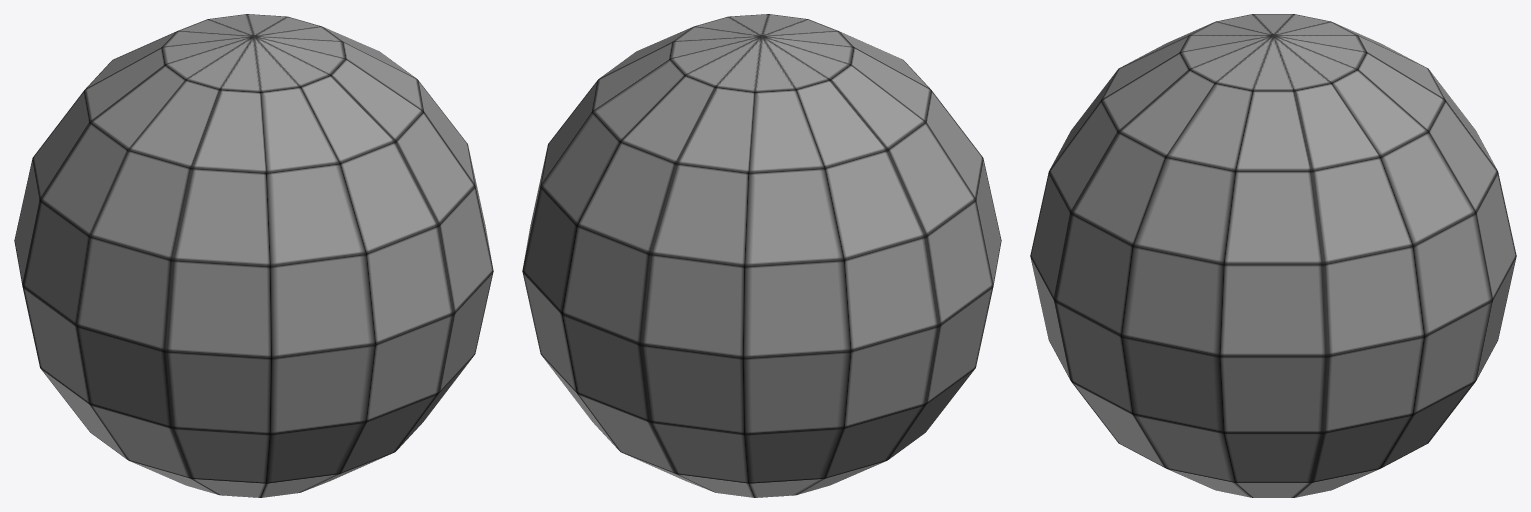
The model's file is MOdelosdeassets.fbx_SphereBlenderPoliceAtack.fbx.
3 renders of one model, left to right at view 1: azimuth 30°, elevation 25°; view 2: azimuth 150°, elevation 25°; view 3: azimuth 270°, elevation 25°, orthographic.
Parts seen in each view (by area): view 1: SphereBlenderPoliceAtack; view 2: SphereBlenderPoliceAtack; view 3: SphereBlenderPoliceAtack.
Part boxes in pixels (x1,y1,x2,y2): SphereBlenderPoliceAtack: [14, 14, 493, 497]; SphereBlenderPoliceAtack: [522, 14, 1001, 497]; SphereBlenderPoliceAtack: [1030, 14, 1516, 497].
Bounding box in the file's own units: 195 × 200 × 200.
